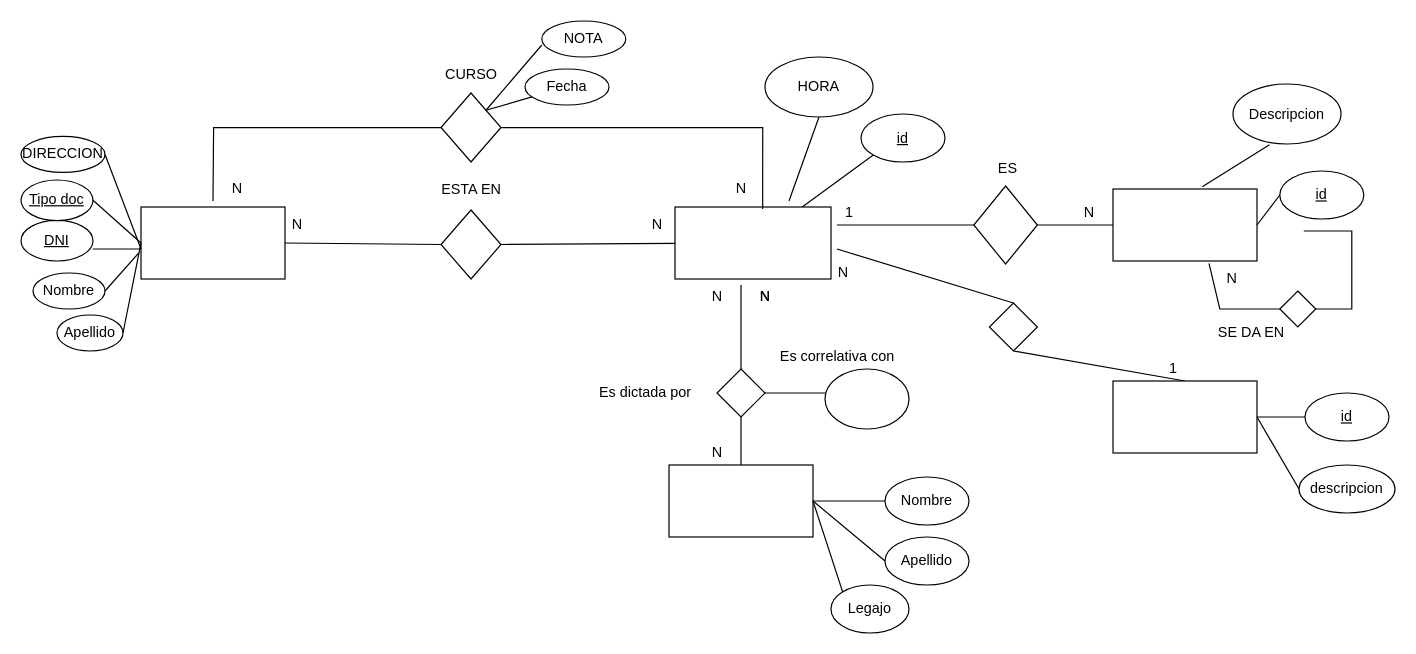
This 1416x654 diagram has some shape labels left out. Each missing label, with the centre of its shape:
ALUMNO: the point at 212,242
AULA: the point at 1184,416
COMISION: the point at 752,242
Jefe de catedra: the point at 866,398
MATERIA: the point at 1184,224
PROFESOR: the point at 740,500
